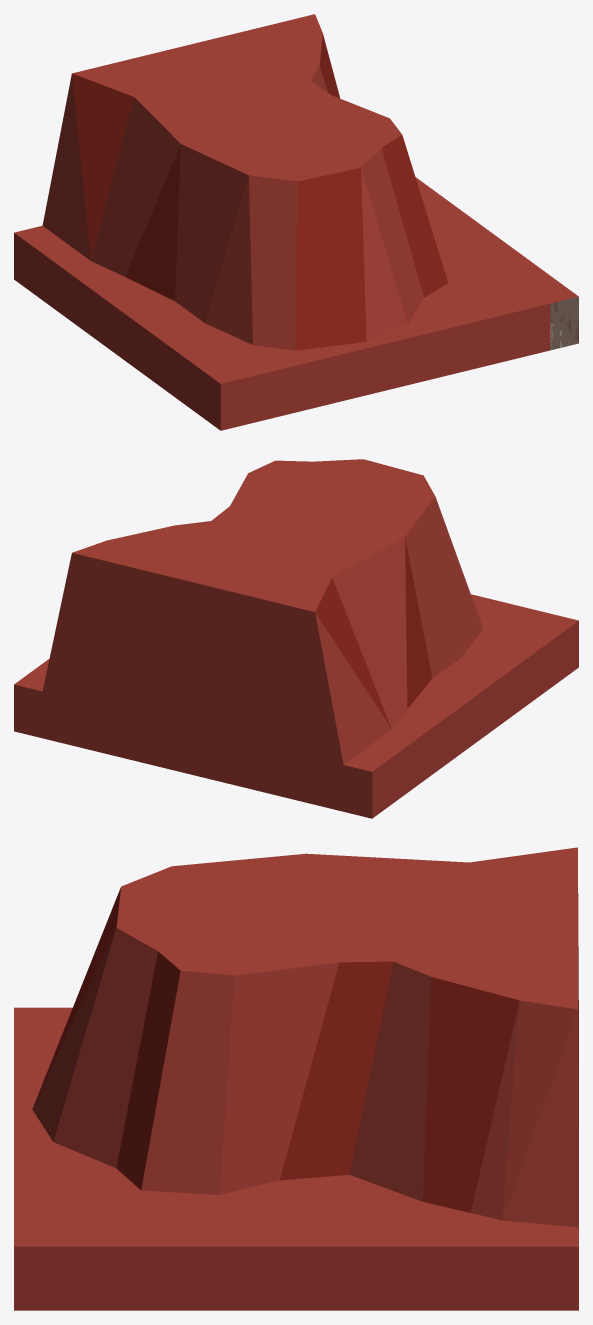
File: Field_9.fbx
The picture shows the model from 3 angles, top to bottom: view 1: azimuth 30°, elevation 25°; view 2: azimuth 150°, elevation 25°; view 3: azimuth 270°, elevation 25°; orthographic projection. The views are drawn at different scales.
Parts seen in each view (by area): view 1: Plane.011; view 2: Plane.011; view 3: Plane.011.
Part boxes in pixels (x1,y1,x2,y2): Plane.011: (14, 14, 578, 430); Plane.011: (14, 459, 578, 818); Plane.011: (14, 847, 578, 1310).
Bounding box in the file's own units: 400 × 205 × 400.
